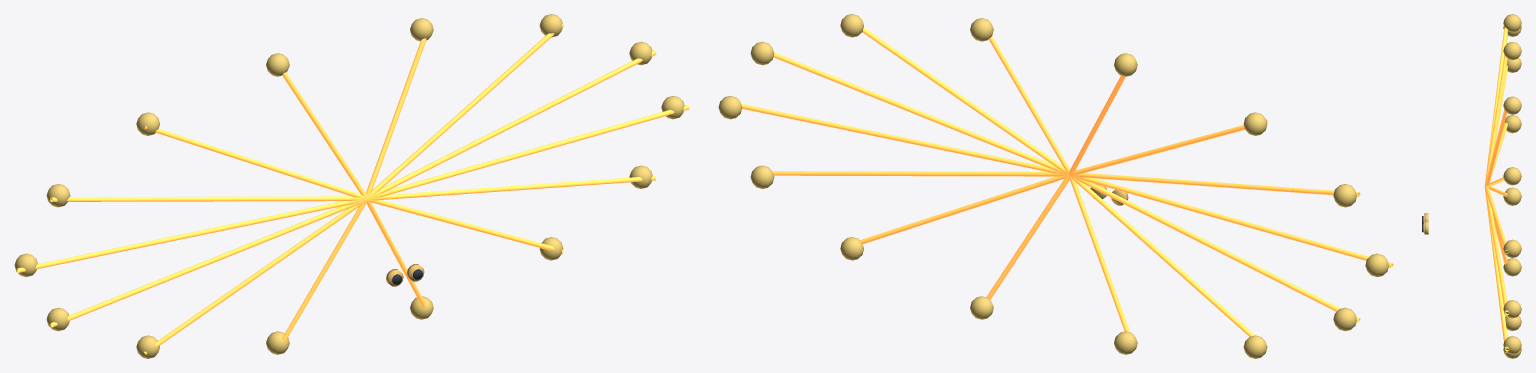
File: 84_L89_ExteriorParticleFieldEmitter.fbx
3 views of the same model, side by side, from view 1: azimuth 30°, elevation 25°; view 2: azimuth 150°, elevation 25°; view 3: azimuth 270°, elevation 25° (orthographic). The views are drawn at different scales.
Visible parts, largest first — view 1: L87_ExteriorParticleFieldEmit_Part_0000, L87_ExteriorParticleFieldEmit_Part_0001; view 2: L87_ExteriorParticleFieldEmit_Part_0000, L87_ExteriorParticleFieldEmit_Part_0001; view 3: L87_ExteriorParticleFieldEmit_Part_0001, L87_ExteriorParticleFieldEmit_Part_0000.
Part boxes in pixels (x1,y1,x2,y2): L87_ExteriorParticleFieldEmit_Part_0000: (17, 23, 689, 354); L87_ExteriorParticleFieldEmit_Part_0001: (14, 14, 684, 358); L87_ExteriorParticleFieldEmit_Part_0000: (741, 27, 1393, 347); L87_ExteriorParticleFieldEmit_Part_0001: (718, 14, 1388, 358); L87_ExteriorParticleFieldEmit_Part_0001: (1503, 14, 1521, 358); L87_ExteriorParticleFieldEmit_Part_0000: (1484, 27, 1509, 354).
Bounding box in the file's own units: 5.8 × 2.48 × 0.962.
